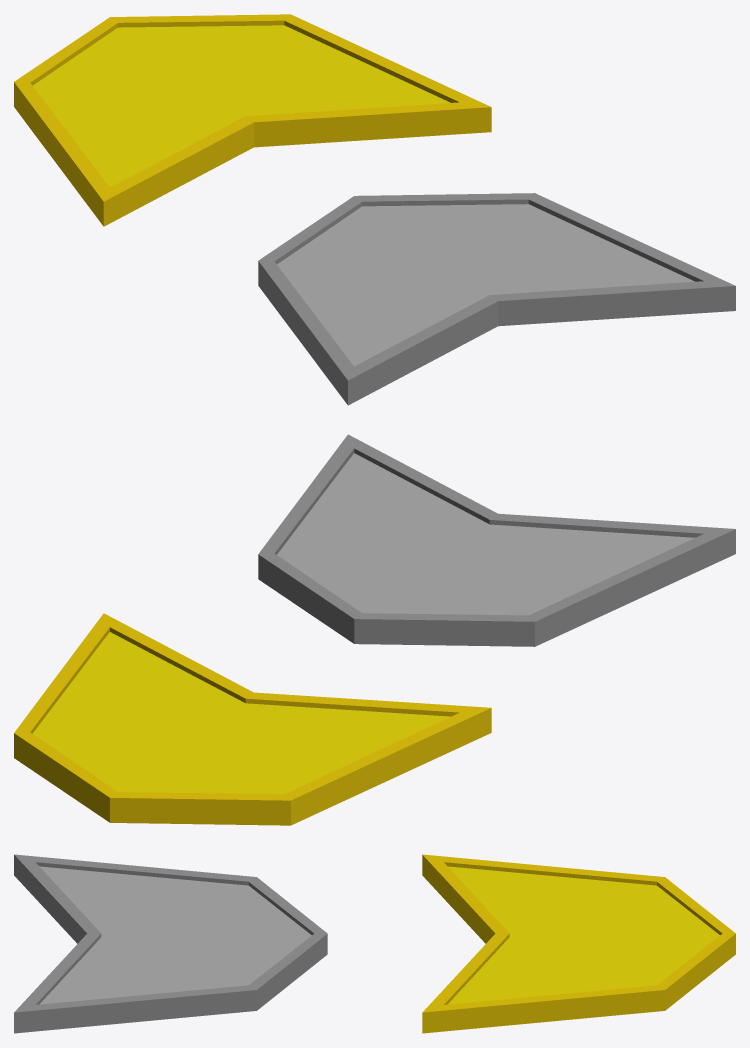
Rendered from jiantou_1.fbx.
The picture shows the model from 3 angles, top to bottom: view 1: azimuth 30°, elevation 25°; view 2: azimuth 150°, elevation 25°; view 3: azimuth 270°, elevation 25°; orthographic projection. The views are drawn at different scales.
Visible parts, largest first — view 1: polySurface2, polySurface4, polySurface5, polySurface1; view 2: polySurface4, polySurface2, polySurface5, polySurface1; view 3: polySurface4, polySurface2, polySurface1, polySurface5.
Part boxes in pixels (x1,y1,x2,y2): polySurface2: (33, 25, 450, 187); polySurface4: (277, 204, 694, 366); polySurface5: (258, 193, 735, 405); polySurface1: (14, 14, 491, 226); polySurface4: (277, 453, 694, 615); polySurface2: (32, 632, 450, 794); polySurface5: (258, 434, 735, 646); polySurface1: (14, 613, 491, 825); polySurface4: (39, 866, 311, 1004); polySurface2: (448, 866, 719, 1004); polySurface1: (422, 854, 735, 1033); polySurface5: (14, 854, 327, 1033).
Bounding box in the file's own units: 36.89 × 2.27 × 71.14.
